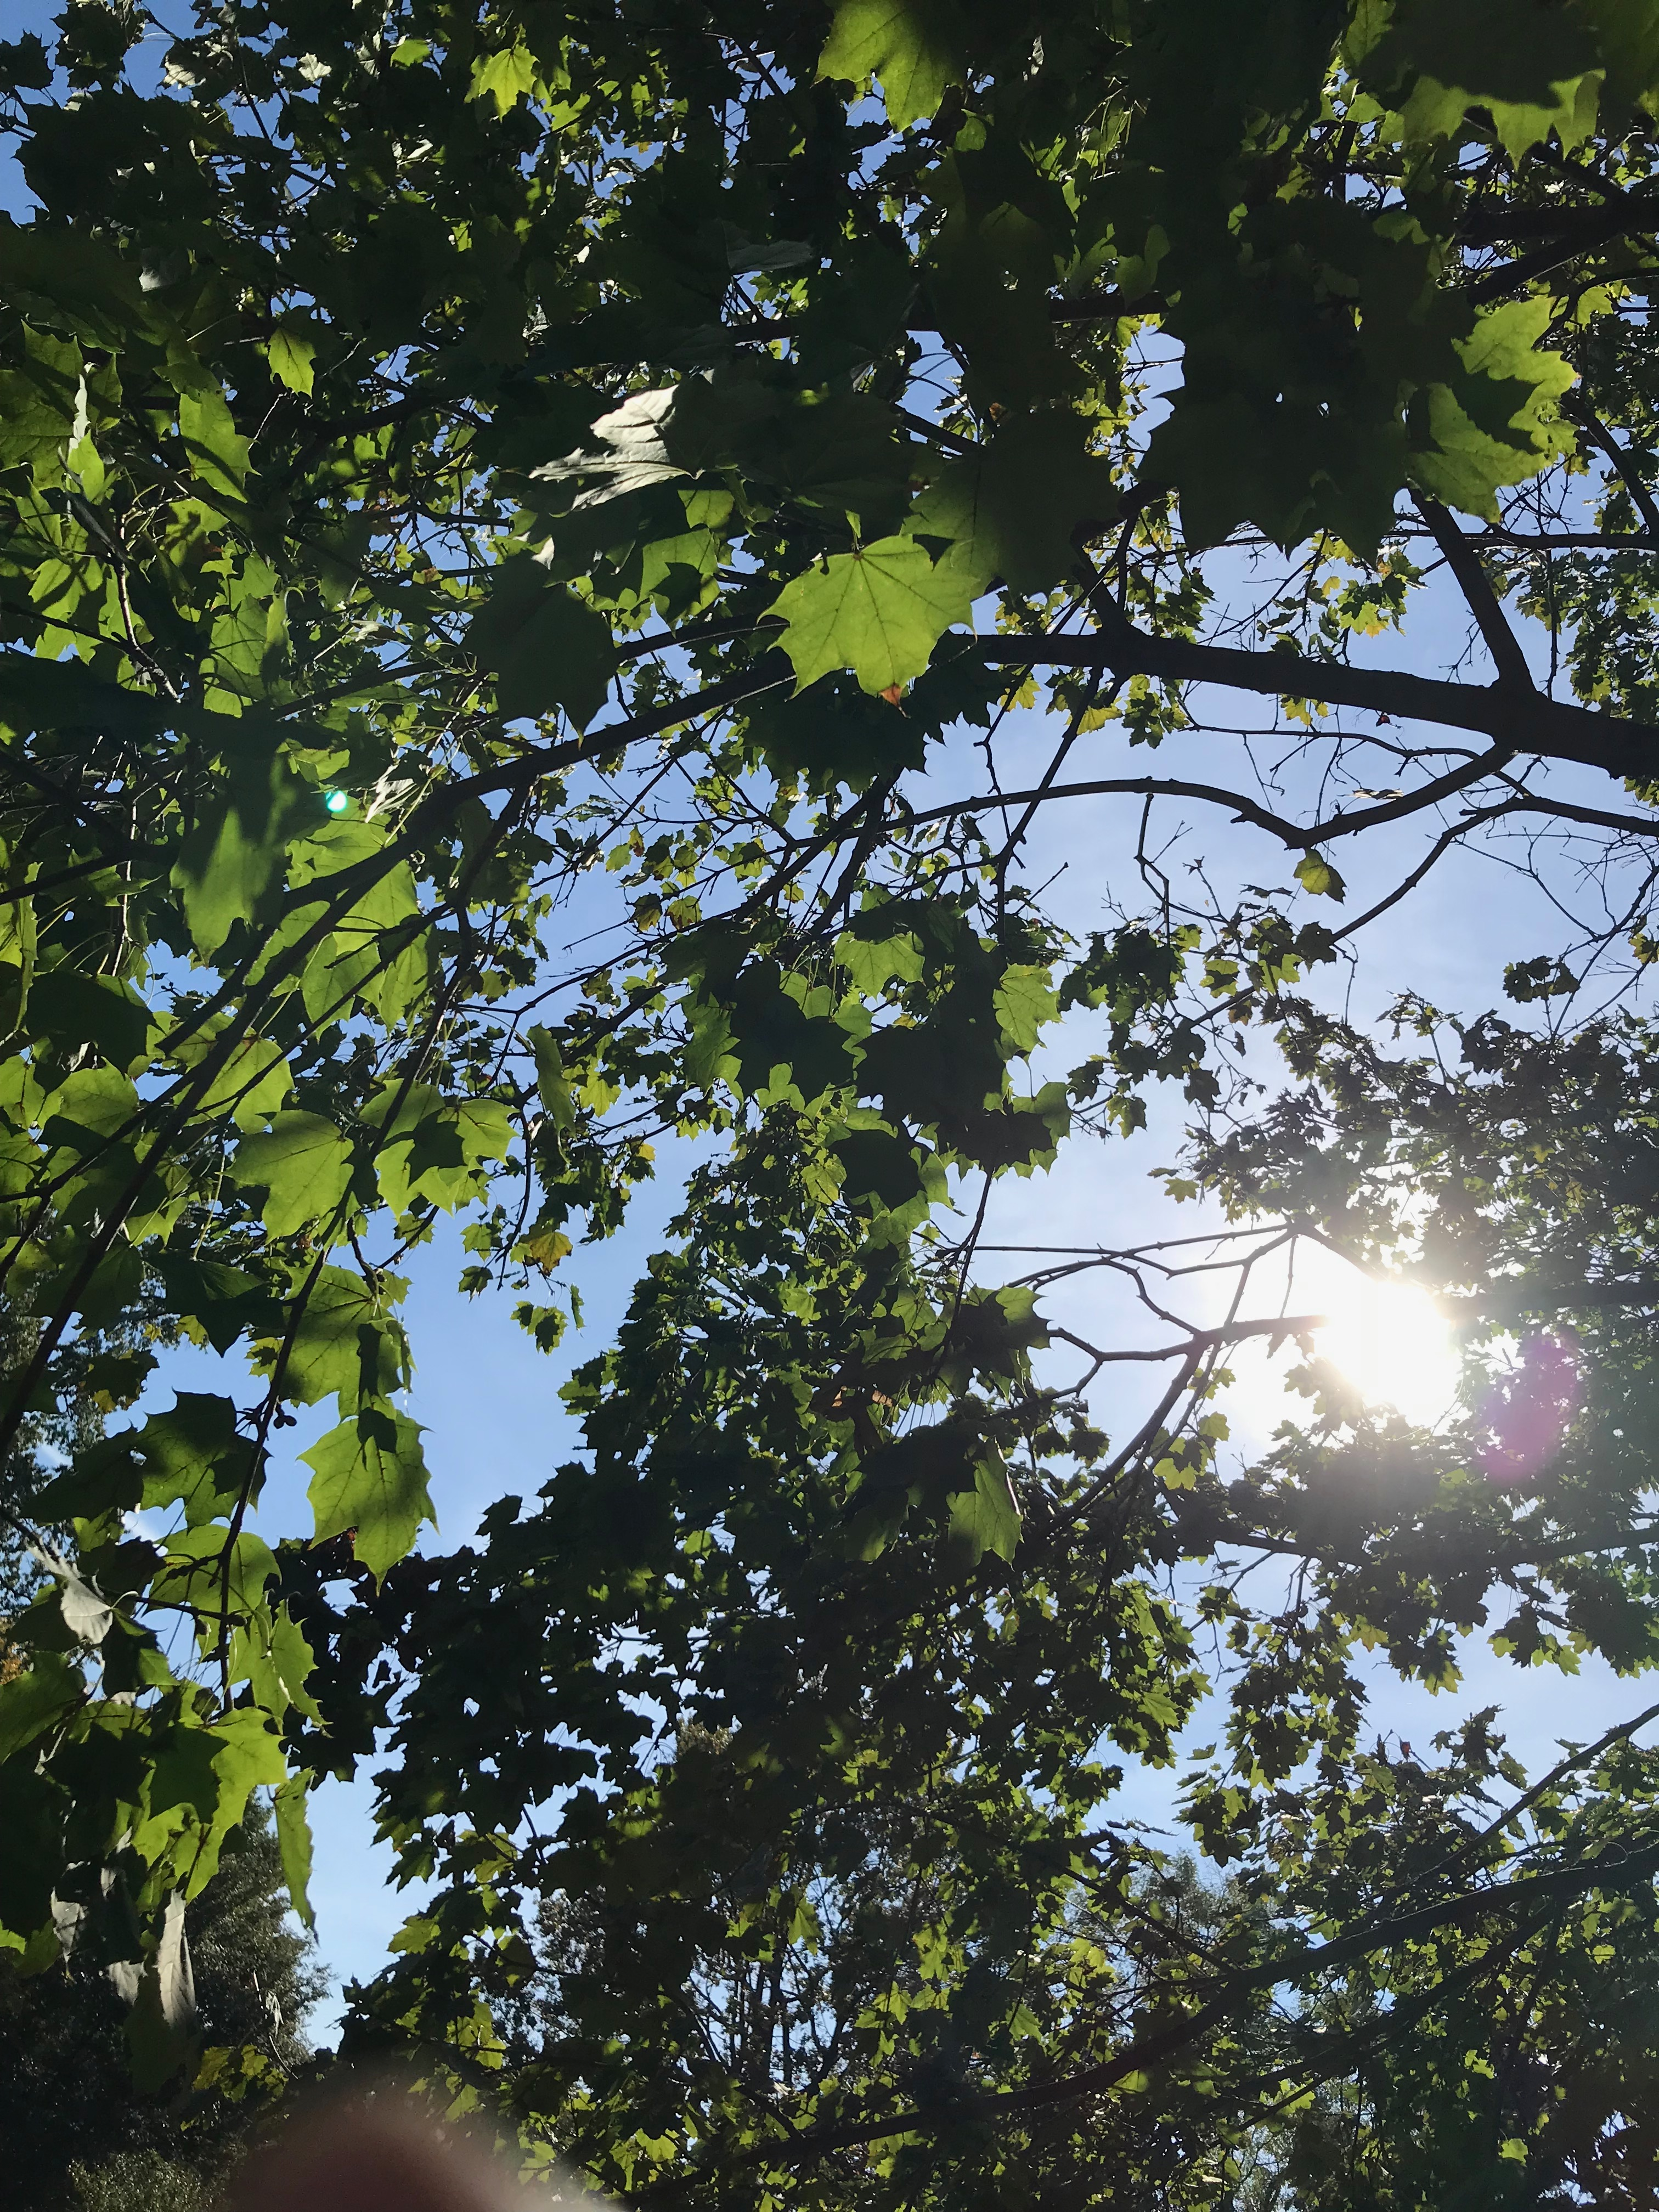flare: (322, 789, 349, 813)
